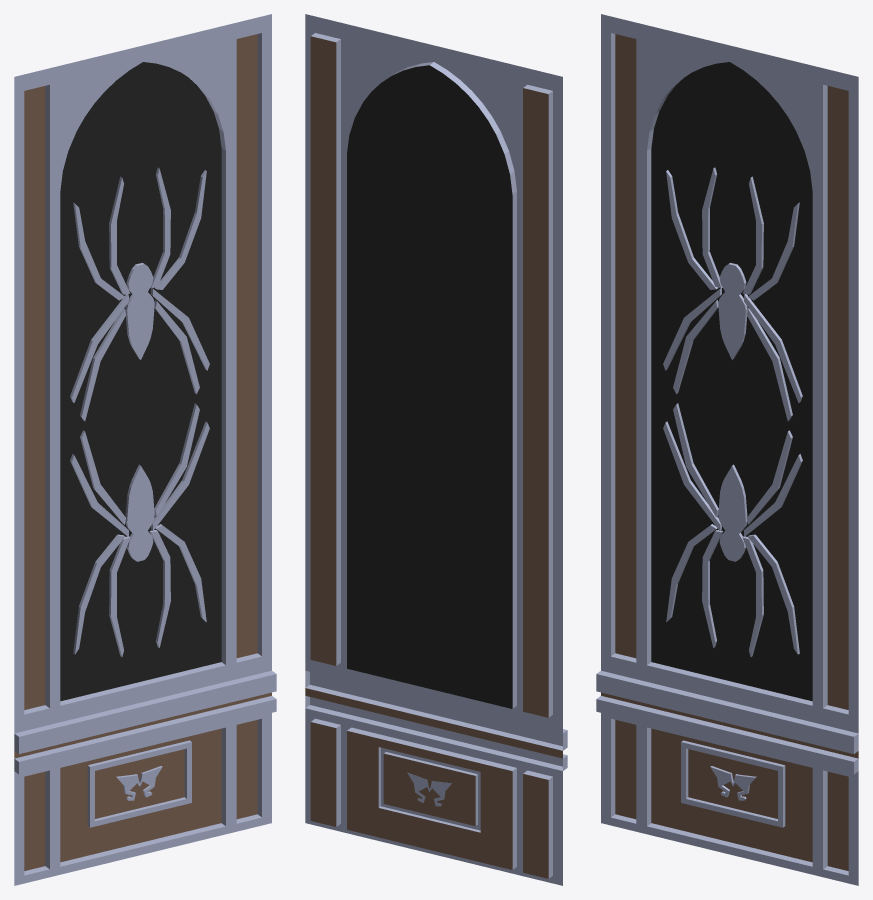
File: SM_Blockout_Wall_01.fbx
3 views of the same model, side by side, from view 1: azimuth 30°, elevation 25°; view 2: azimuth 150°, elevation 25°; view 3: azimuth 330°, elevation 25° (orthographic).
Parts seen in each view (by area): view 1: Wall_1; view 2: Wall_1; view 3: Wall_1.
Boxes of the visible parts, x1,y1,x2,y2 form: Wall_1: (14,14,276,885); Wall_1: (305,14,567,885); Wall_1: (596,14,858,885).
Bounding box in the file's own units: 200 × 600 × 12.31.
